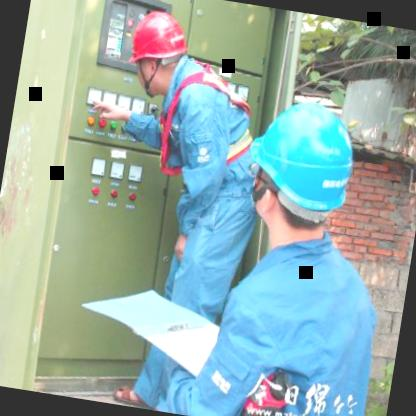helmet: (230, 76, 378, 260), (111, 0, 197, 107)
